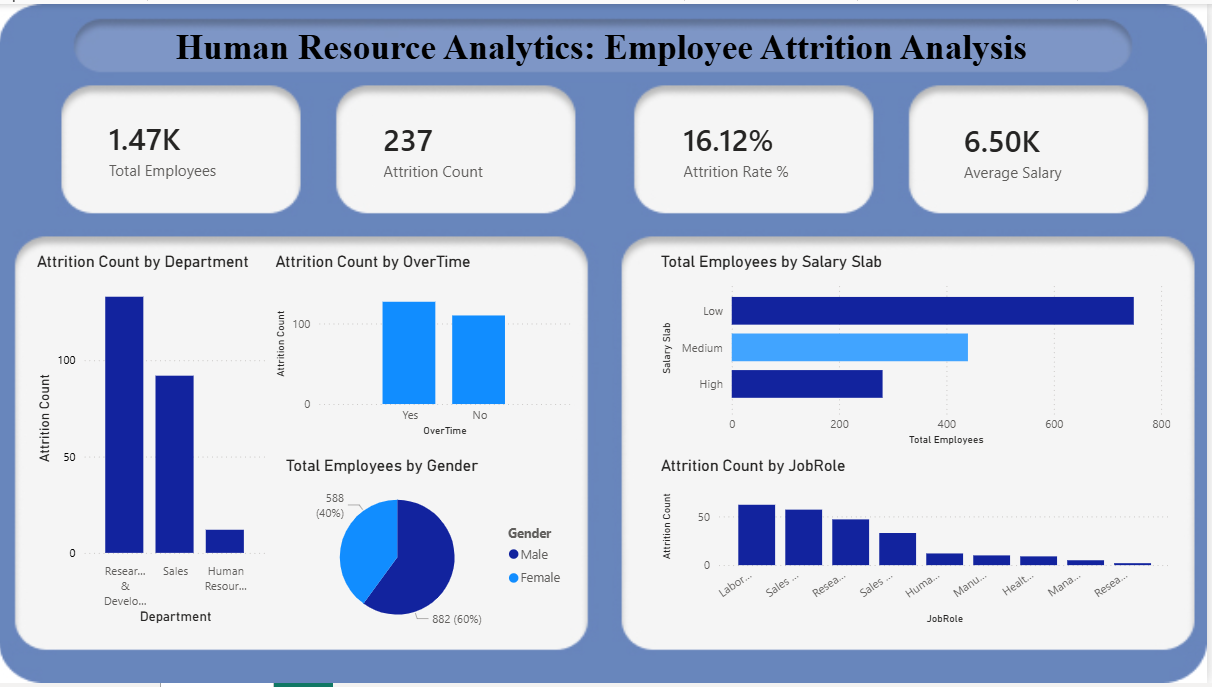

The dashboard page shown, as its layout file describes it:
{"tool":"powerbi","page":{"name":"Page 1","canvas":[1280,720],"ordinal":0},"visuals":[{"type":"cardVisual","fields":{"Data":["hr_project hr_data.Total Employees"]},"box":[87.5,97,211.6,112.9],"z":0},{"type":"cardVisual","fields":{"Data":["hr_project hr_data.Attrition Count"]},"box":[378.6,97,211.6,114.5],"z":1000},{"type":"cardVisual","fields":{"Data":["hr_project hr_data.Attrition Rate %"]},"box":[696.7,90.7,200.4,127.2],"z":2000},{"type":"cardVisual","fields":{"Data":["hr_project hr_data.Average Salary"]},"box":[994.1,97,198.8,116.1],"z":3000},{"type":"clusteredColumnChart","fields":{"Category":["hr_project hr_data.Department"],"Y":["hr_project hr_data.Attrition Count"]},"box":[35,262.5,252.9,399.2],"z":4000},{"type":"columnChart","fields":{"Category":["hr_project hr_data.JobRole"],"Y":["hr_project hr_data.Attrition Count"]},"box":[696.7,478.8,550.4,182.9],"z":5000},{"type":"clusteredColumnChart","fields":{"Category":["hr_project hr_data.OverTime"],"Y":["hr_project hr_data.Attrition Count"]},"box":[287.9,262.5,322.9,200.4],"z":6000},{"type":"pieChart","fields":{"Category":["hr_project hr_data.Gender"],"Y":["hr_project hr_data.Total Employees"]},"box":[299,478.8,311.8,195.6],"z":7000},{"type":"barChart","fields":{"Category":["hr_project hr_data.Salary Slab"],"Y":["hr_project hr_data.Total Employees"]},"box":[696.7,262.5,550.4,210],"z":8000},{"type":"textbox","box":[108.2,19.1,1060.9,58.9],"z":8001}]}

Visuals, with their boxes in screenshot pixels (x1, y1, x2, y2), scaled from the page's 1280x720 canvas onto the 1212x687 screenshot:
cardVisual - hr_project hr_data.Total Employees: detection(83, 93, 283, 200)
cardVisual - hr_project hr_data.Attrition Count: detection(358, 93, 559, 202)
cardVisual - hr_project hr_data.Attrition Rate %: detection(660, 87, 849, 208)
cardVisual - hr_project hr_data.Average Salary: detection(941, 93, 1130, 203)
clusteredColumnChart - hr_project hr_data.Department x hr_project hr_data.Attrition Count: detection(33, 250, 273, 631)
columnChart - hr_project hr_data.JobRole x hr_project hr_data.Attrition Count: detection(660, 457, 1181, 631)
clusteredColumnChart - hr_project hr_data.OverTime x hr_project hr_data.Attrition Count: detection(273, 250, 578, 442)
pieChart - hr_project hr_data.Gender x hr_project hr_data.Total Employees: detection(283, 457, 578, 643)
barChart - hr_project hr_data.Salary Slab x hr_project hr_data.Total Employees: detection(660, 250, 1181, 451)
textbox: detection(102, 18, 1107, 74)
